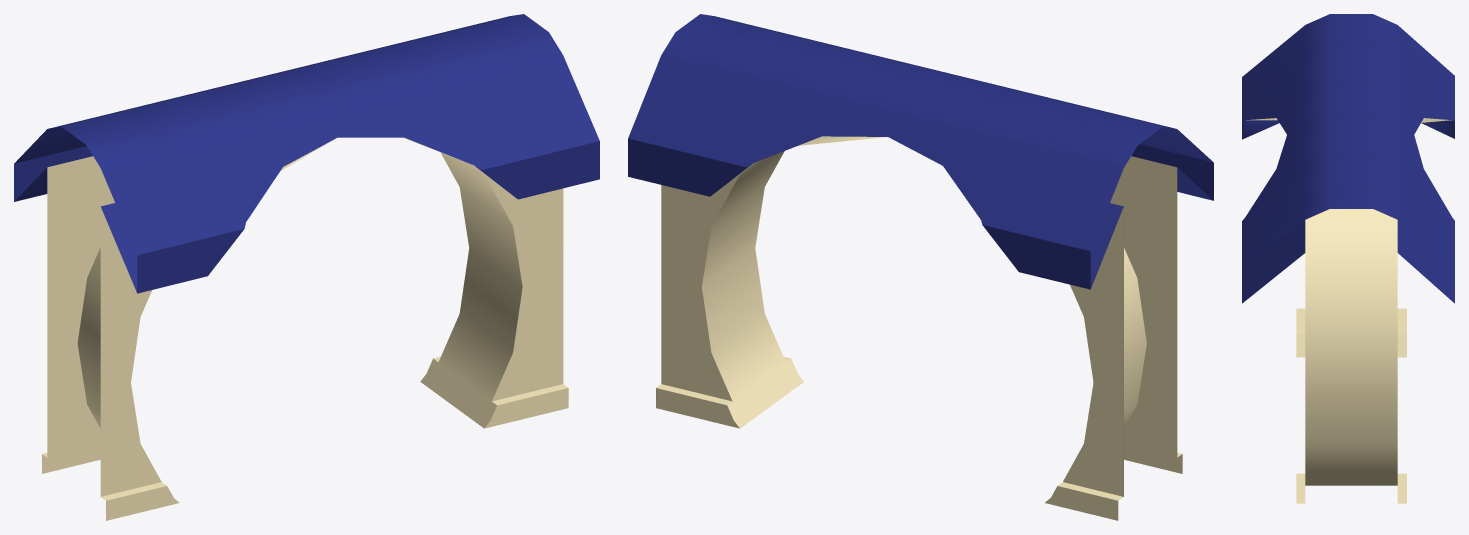
File: Wallopening.fbx
The picture shows the model from 3 angles, left to right: view 1: azimuth 30°, elevation 25°; view 2: azimuth 150°, elevation 25°; view 3: azimuth 270°, elevation 25°; orthographic projection. The views are drawn at different scales.
Parts seen in each view (by area): view 1: pCube4; view 2: pCube4; view 3: pCube4.
Boxes of the visible parts, x1=… form: pCube4: x1=14, y1=14, x2=599, y2=520; pCube4: x1=628, y1=14, x2=1213, y2=520; pCube4: x1=1242, y1=14, x2=1454, y2=503.
Bounding box in the file's own units: 5 × 3.73 × 2.31.
